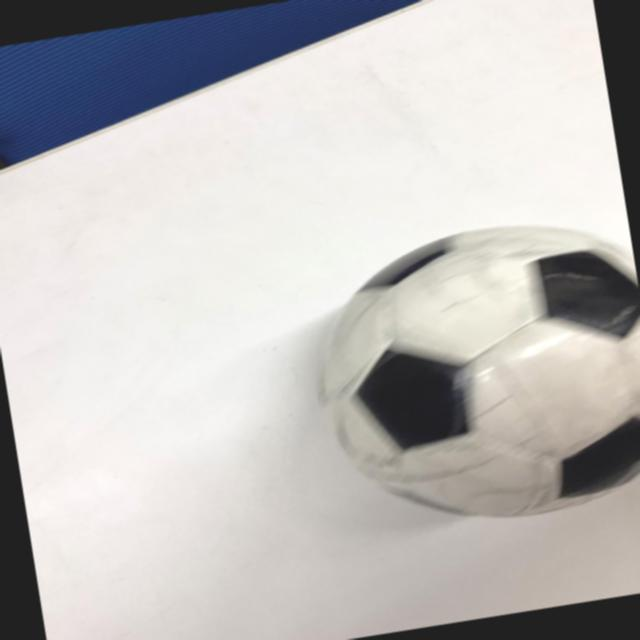Soccer Ball: (298, 203, 640, 542)
